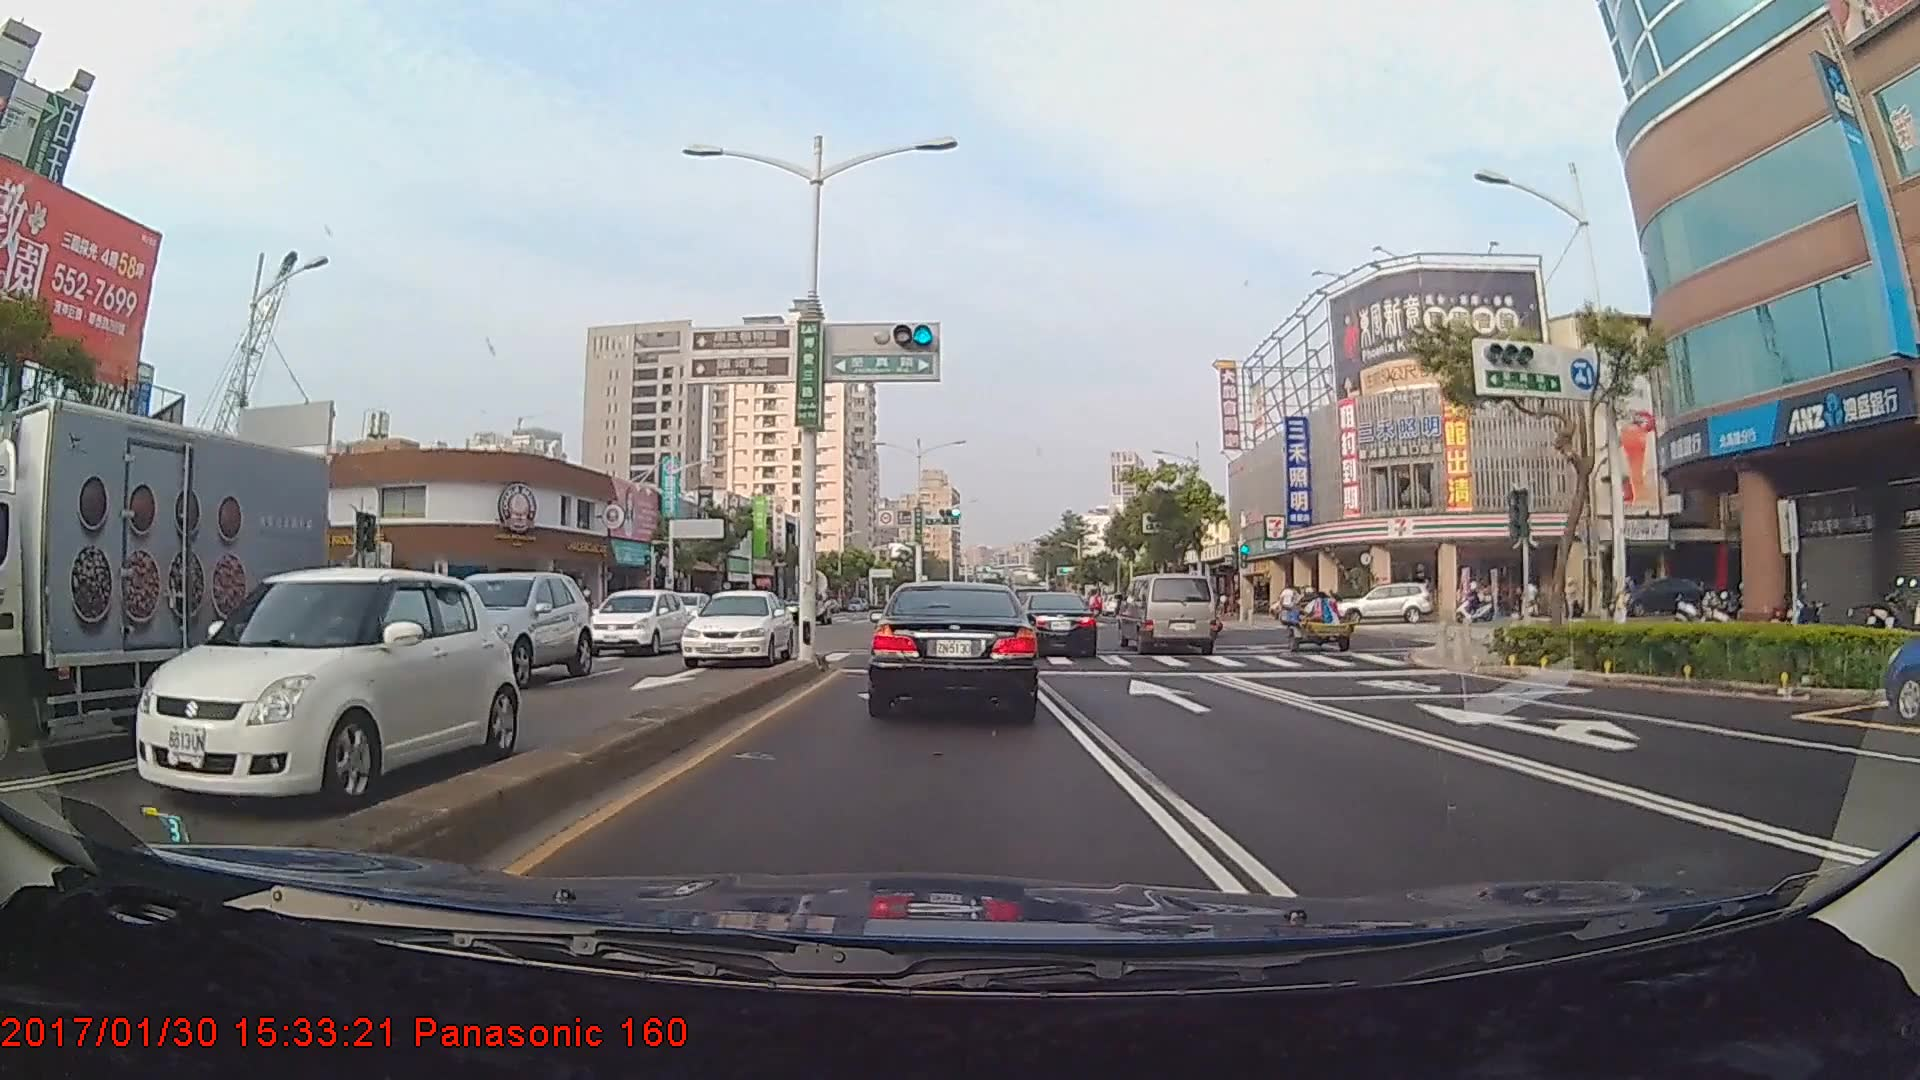vehicle: (0, 401, 320, 752), (102, 556, 483, 825), (870, 578, 1036, 719), (400, 563, 585, 684), (671, 583, 799, 669), (1120, 574, 1222, 655), (576, 583, 683, 657), (1876, 585, 1920, 719), (1018, 591, 1098, 655), (1348, 579, 1437, 625)
